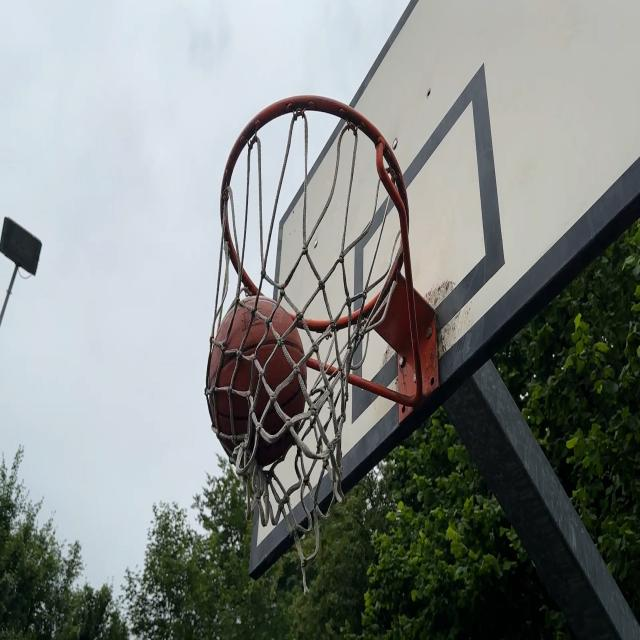Goal: (202, 298, 308, 466)
